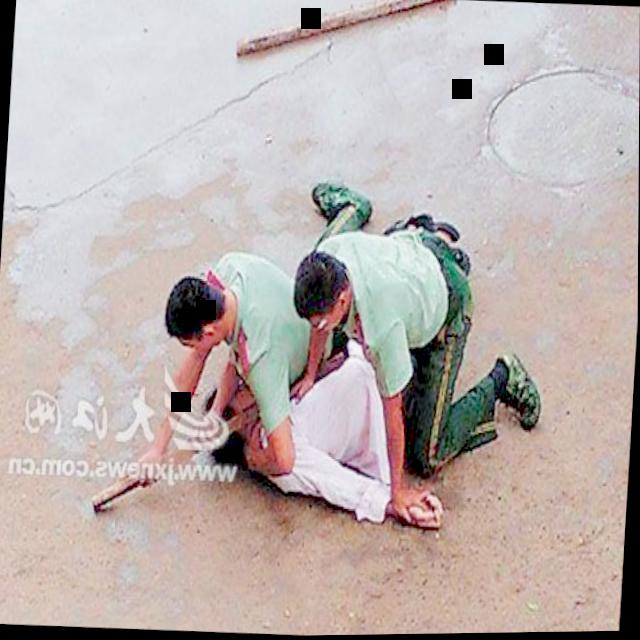Fall-Detected: (222, 337, 456, 546)
